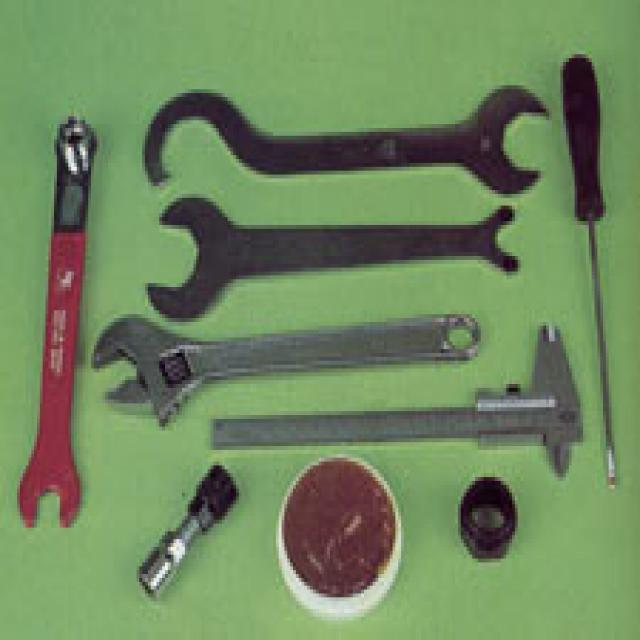screwdriver: (556, 45, 624, 496)
wrench: (140, 189, 523, 324), (142, 74, 555, 198), (90, 310, 489, 421), (11, 114, 105, 532)
